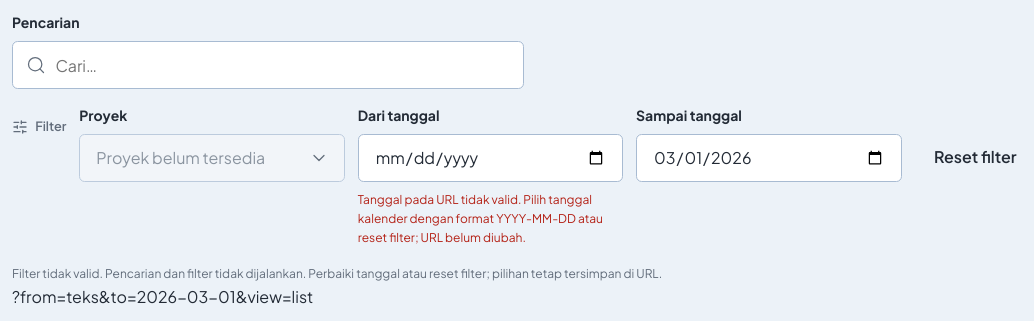
Test case: Validasi lokal rentang tanggal FilterToolbar › menampilkan error untuk teks tanpa membuang URL dan dapat diperbaiki
Expected: the 2nd message shows "Filter tidak valid.", [12,266,662,281]
Type "2026-02-28" into the date field labelled "Dari tanggal" at x=490, y=158, box [358,134,623,182]
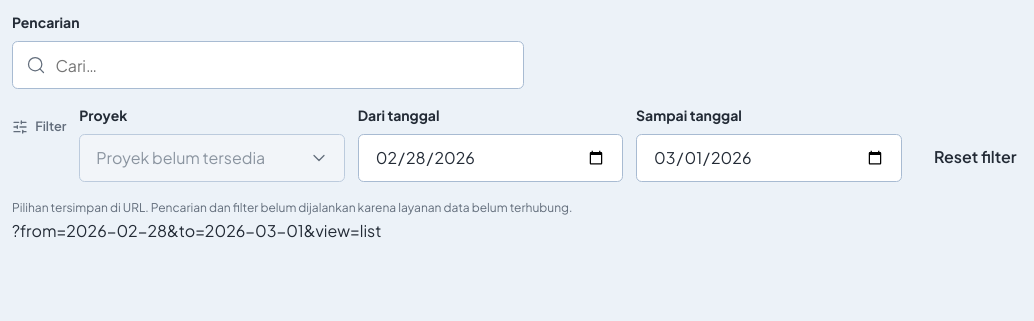
Expected: the message no longer shows "Filter tidak valid.", [12,200,572,215]
